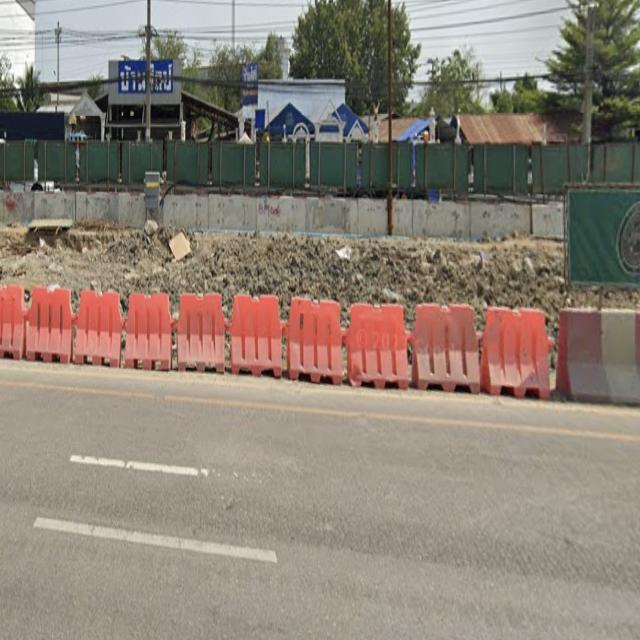fallen_object: (541, 293, 640, 424), (465, 292, 560, 417), (402, 286, 485, 410), (70, 279, 179, 371), (337, 292, 419, 396), (277, 290, 352, 393), (0, 267, 72, 363), (217, 285, 284, 376), (169, 283, 232, 375)
